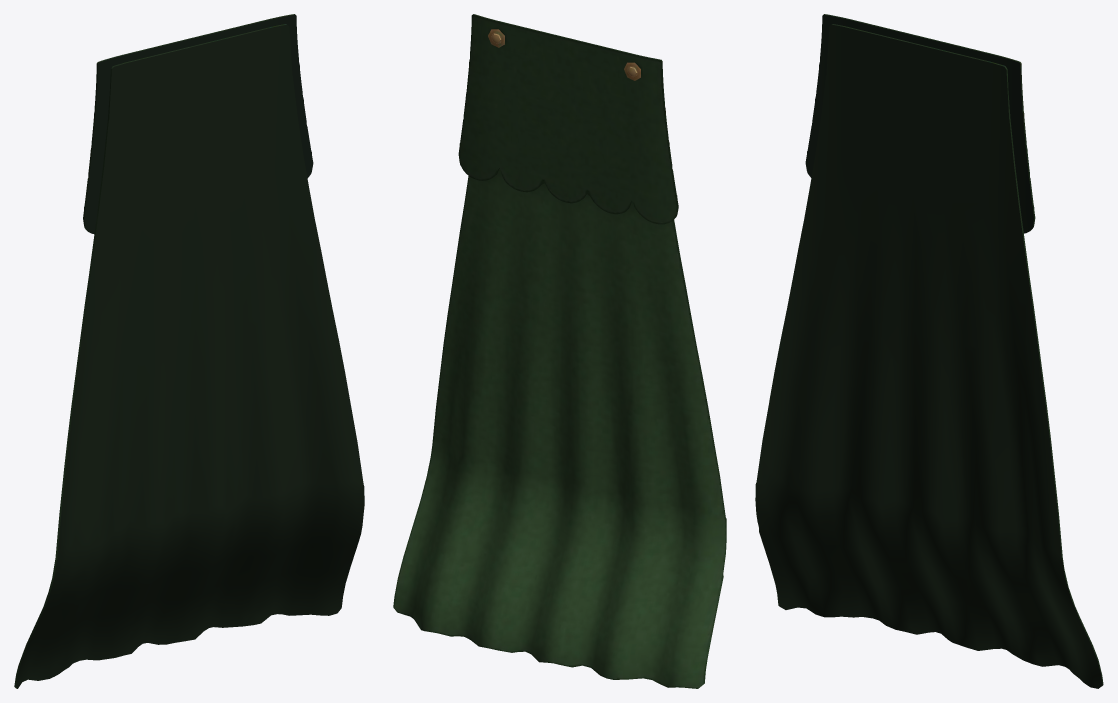
File: cape_hunter.glb
3 renders of one model, left to right at view 1: azimuth 30°, elevation 25°; view 2: azimuth 150°, elevation 25°; view 3: azimuth 330°, elevation 25°, orthographic. The views are drawn at different scales.
Parts seen in each view (by area): view 1: cape; view 2: cape; view 3: cape.
Part boxes in pixels (x1=…): cape: x1=14, y1=14, x2=364, y2=688; cape: x1=393, y1=14, x2=726, y2=688; cape: x1=755, y1=14, x2=1103, y2=688.
Bounding box in the file's own units: 0.5504 × 1.01 × 0.1413.
1 material, 1 textured.
